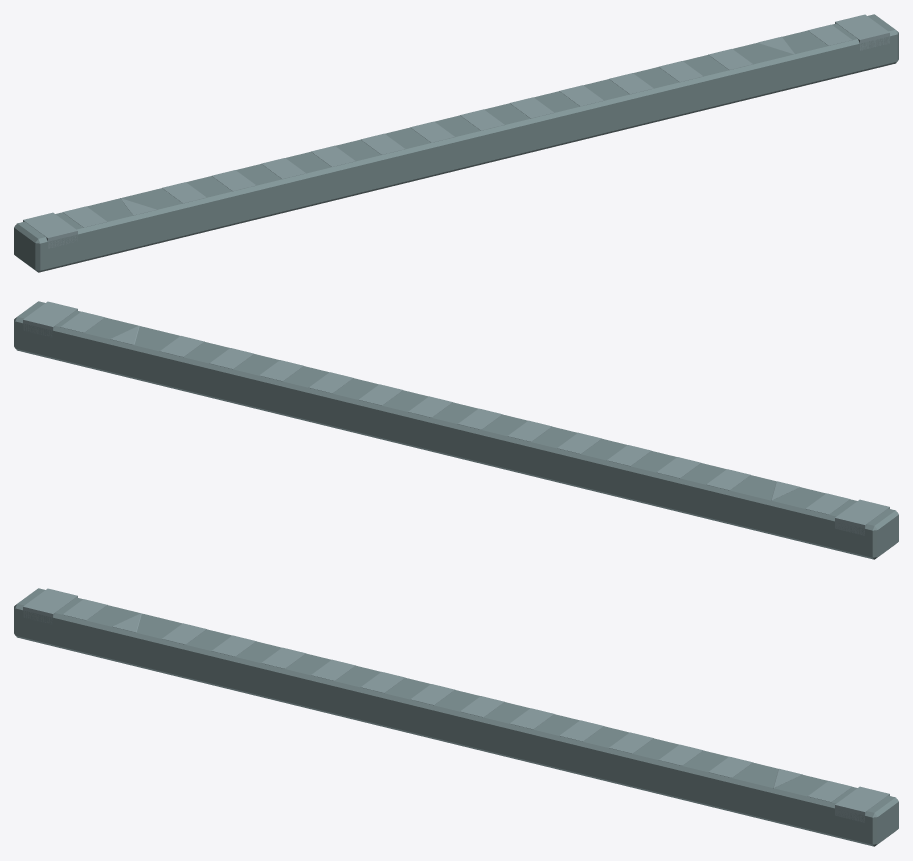
Rendered from RoadPlan_Drain_L2.glb.
The picture shows the model from 3 angles, top to bottom: view 1: azimuth 30°, elevation 25°; view 2: azimuth 150°, elevation 25°; view 3: azimuth 330°, elevation 25°; orthographic projection.
Parts seen in each view (by area): view 1: RoadPlan_Drain_L2_RecessedChannel, RoadPlan_Drain_L2_ReplaceableGrate; view 2: RoadPlan_Drain_L2_RecessedChannel, RoadPlan_Drain_L2_ReplaceableGrate; view 3: RoadPlan_Drain_L2_RecessedChannel, RoadPlan_Drain_L2_ReplaceableGrate.
Boxes of the visible parts, <box> form: RoadPlan_Drain_L2_RecessedChannel: <box>14,14,898,272</box>; RoadPlan_Drain_L2_ReplaceableGrate: <box>63,24,852,227</box>; RoadPlan_Drain_L2_RecessedChannel: <box>14,301,898,559</box>; RoadPlan_Drain_L2_ReplaceableGrate: <box>60,311,849,514</box>; RoadPlan_Drain_L2_RecessedChannel: <box>14,588,898,846</box>; RoadPlan_Drain_L2_ReplaceableGrate: <box>62,599,852,802</box>.
Size of the model in its own units: 2 by 0.0755 by 0.1.
